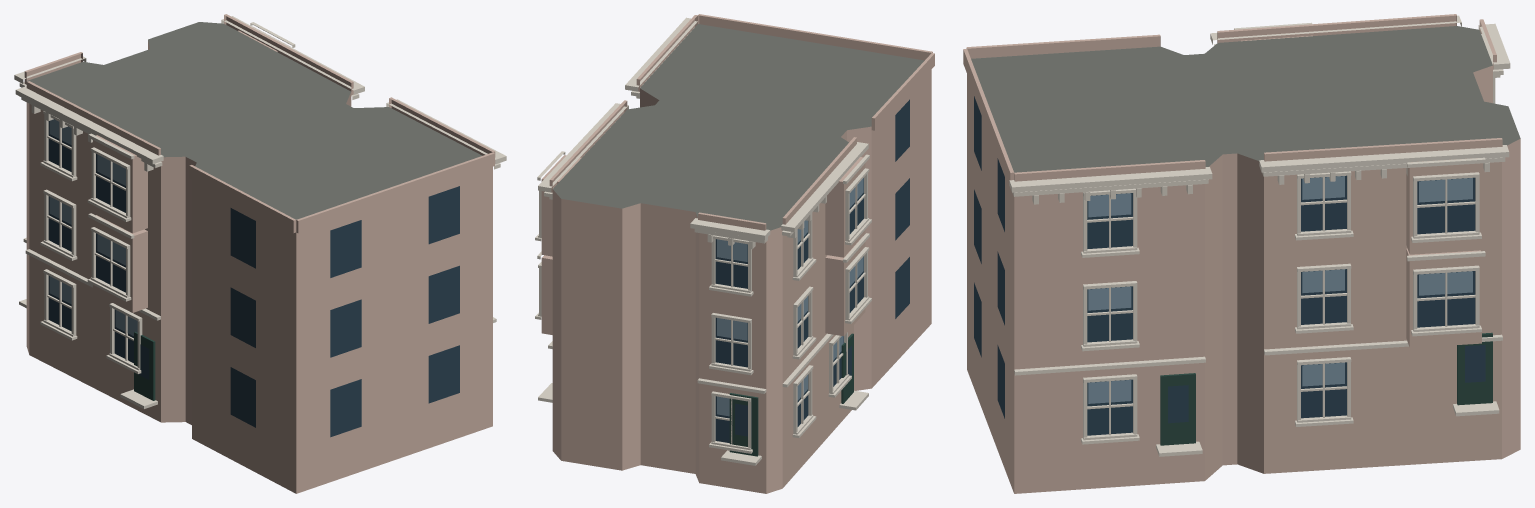
3 renders of one model, left to right at view 1: azimuth 30°, elevation 25°; view 2: azimuth 150°, elevation 25°; view 3: azimuth 270°, elevation 25°, orthographic. The views are drawn at different scales.
Visible parts, largest first — view 1: Footprint 0 / surface 2, Footprint 0 / surface 1, Inset glazing, Cornices and window frames, Facade bay volumes, Sky reflection panels, Storefronts and doors; view 2: Footprint 0 / surface 2, Footprint 0 / surface 1, Cornices and window frames, Facade bay volumes, Inset glazing, Sky reflection panels, Storefronts and doors; view 3: Footprint 0 / surface 2, Footprint 0 / surface 1, Cornices and window frames, Inset glazing, Facade bay volumes, Sky reflection panels, Storefronts and doors.
Boxes of the visible parts, bbox=[...] form: Footprint 0 / surface 2: bbox=[26, 40, 492, 493]; Footprint 0 / surface 1: bbox=[26, 22, 482, 219]; Inset glazing: bbox=[48, 121, 459, 437]; Cornices and window frames: bbox=[14, 16, 506, 408]; Facade bay volumes: bbox=[24, 14, 495, 312]; Sky reflection panels: bbox=[49, 119, 137, 336]; Storefronts and doors: bbox=[134, 331, 155, 400]; Footprint 0 / surface 2: bbox=[552, 70, 931, 493]; Footprint 0 / surface 1: bbox=[553, 24, 924, 230]; Cornices and window frames: bbox=[535, 17, 871, 465]; Facade bay volumes: bbox=[541, 14, 934, 336]; Inset glazing: bbox=[715, 99, 909, 442]; Sky reflection panels: bbox=[717, 178, 863, 416]; Storefronts and doors: bbox=[729, 333, 853, 456]; Footprint 0 / surface 2: bbox=[967, 65, 1520, 493]; Footprint 0 / surface 1: bbox=[971, 26, 1520, 172]; Cornices and window frames: bbox=[1009, 15, 1510, 456]; Inset glazing: bbox=[974, 96, 1485, 435]; Facade bay volumes: bbox=[963, 14, 1502, 347]; Sky reflection panels: bbox=[1088, 176, 1472, 403]; Storefronts and doors: bbox=[1160, 332, 1492, 445].
Bounding box in the file's own units: 12.52 × 10.92 × 17.16.
